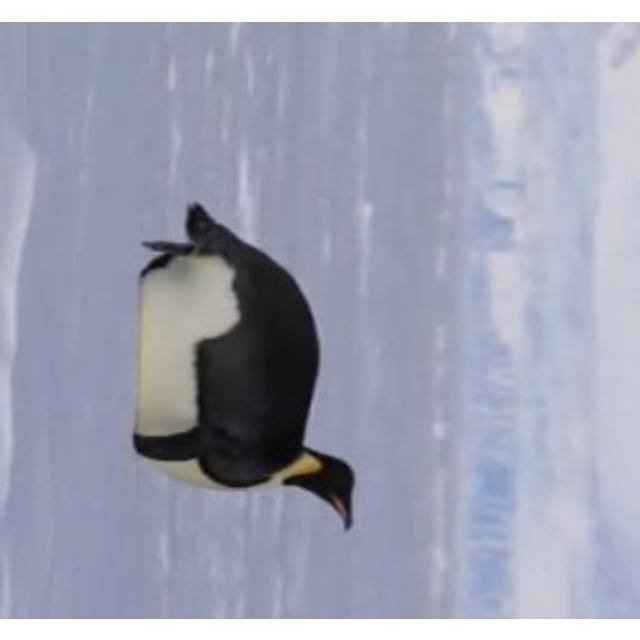penguin: (133, 200, 359, 535)
